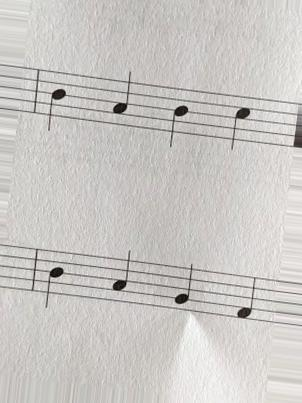note: (223, 91, 254, 157), (36, 246, 66, 314), (106, 68, 134, 132), (165, 87, 192, 151), (44, 71, 70, 137), (108, 245, 134, 310), (172, 260, 197, 324), (231, 271, 256, 331)
